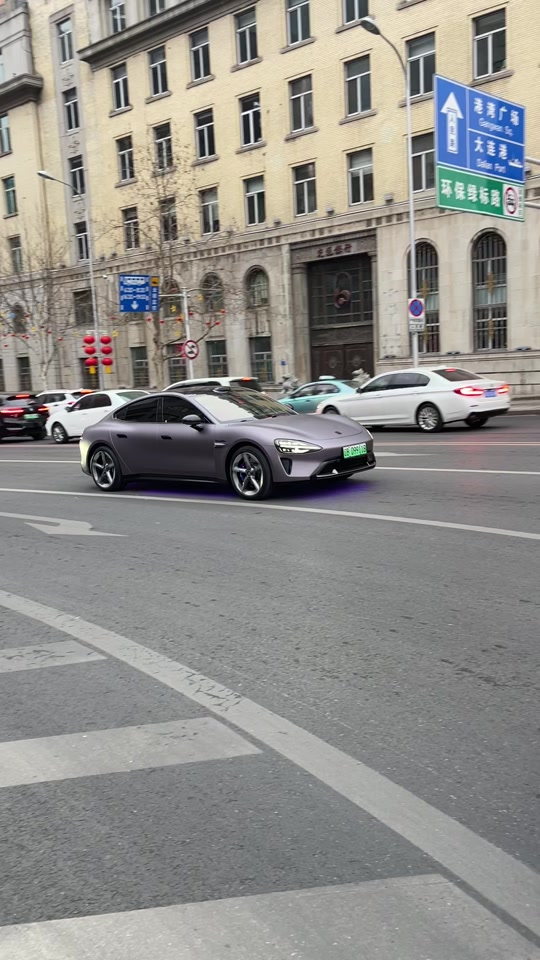other: (325, 375, 510, 441), (0, 383, 50, 448)
su7: (79, 385, 379, 500)
